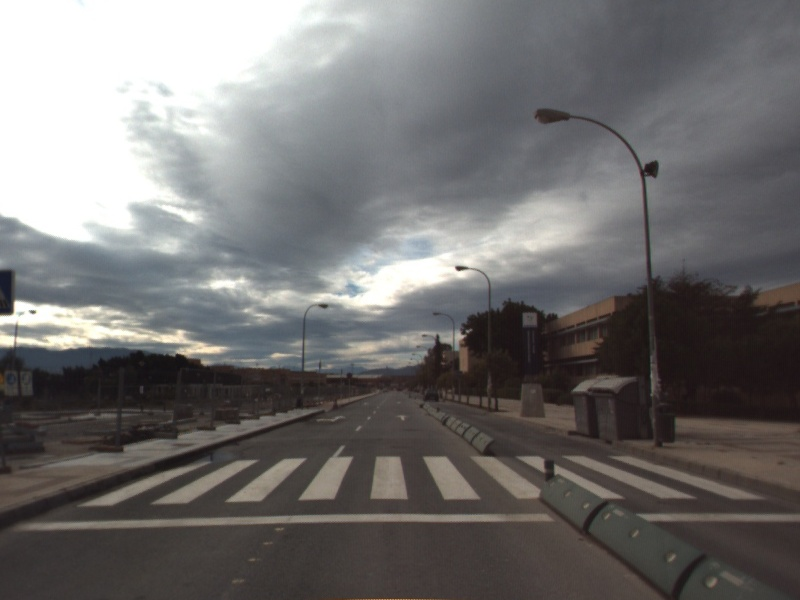STRAIGHT: (393, 412, 412, 423)
STRAIGHT_LEFT: (313, 413, 348, 425)
